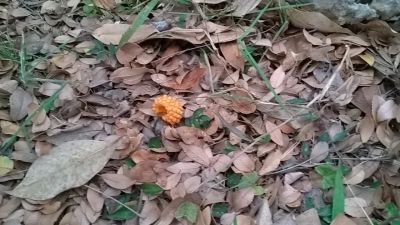eggs: (152, 93, 184, 124)
